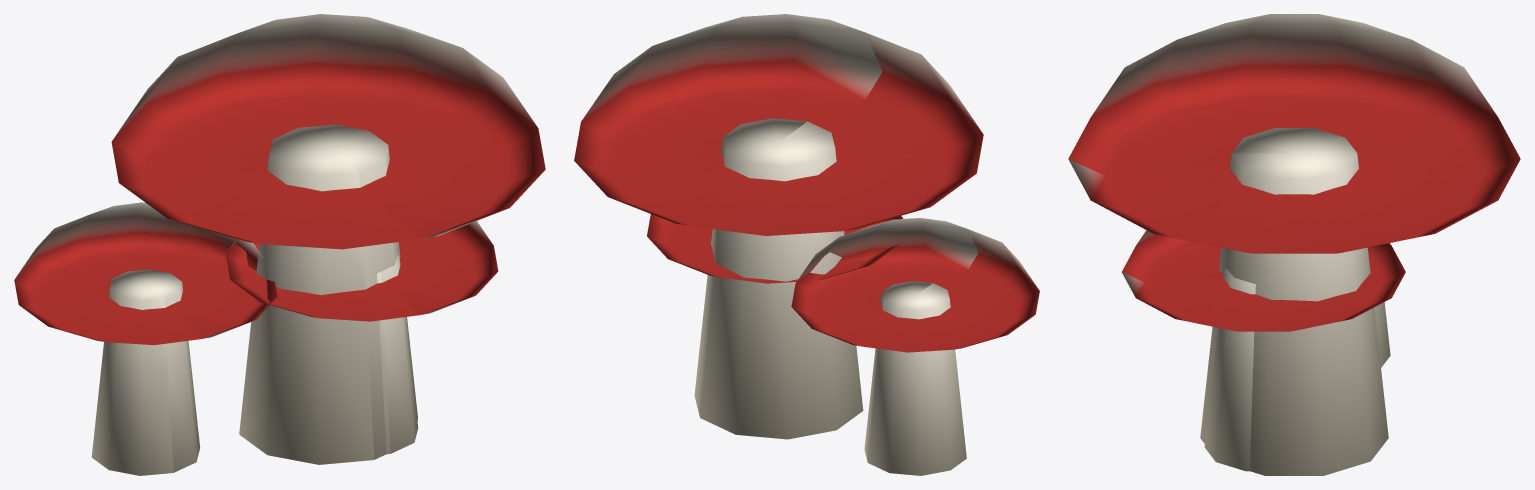
The model's file is plant_mushroom_red_cap.glb.
3 renders of one model, left to right at view 1: azimuth 30°, elevation 25°; view 2: azimuth 150°, elevation 25°; view 3: azimuth 270°, elevation 25°, orthographic. The views are drawn at different scales.
Parts seen in each view (by area): view 1: mushroom_redcap, mushroom_redcap_mushroom_stem; view 2: mushroom_redcap, mushroom_redcap_mushroom_stem; view 3: mushroom_redcap, mushroom_redcap_mushroom_stem.
Part boxes in pixels (x1,y1,x2,y2): mushroom_redcap: [14, 14, 545, 345]; mushroom_redcap_mushroom_stem: [91, 124, 418, 475]; mushroom_redcap: [574, 14, 1039, 352]; mushroom_redcap_mushroom_stem: [694, 118, 966, 475]; mushroom_redcap: [1068, 14, 1520, 331]; mushroom_redcap_mushroom_stem: [1200, 128, 1390, 475].
Bounding box in the file's own units: 0.5594 × 0.4416 × 0.4608.
